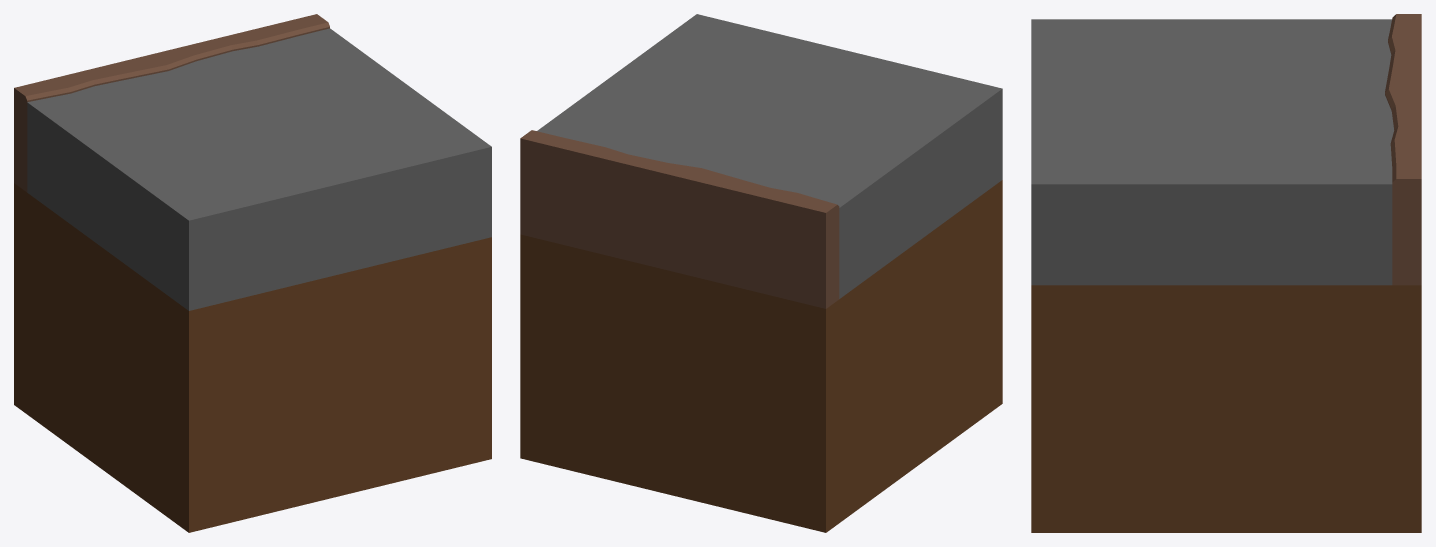
File: Basement-Ground 2.fbx
The picture shows the model from 3 angles, left to right: view 1: azimuth 30°, elevation 25°; view 2: azimuth 150°, elevation 25°; view 3: azimuth 270°, elevation 25°; orthographic projection. The views are drawn at different scales.
Visible parts, largest first — view 1: Basement/Grass fade 6; view 2: Basement/Grass fade 6; view 3: Basement/Grass fade 6.
Boxes of the visible parts, x1,y1,x2,y2 form: Basement/Grass fade 6: (14,14,491,532); Basement/Grass fade 6: (520,14,1002,532); Basement/Grass fade 6: (1031,14,1421,532).
Size of the model in its own units: 2 by 2 by 2.
